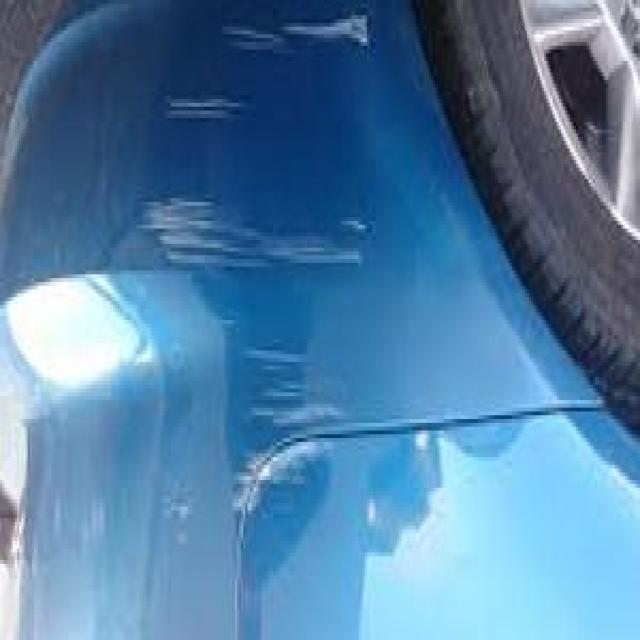scratch: (96, 6, 390, 596)
